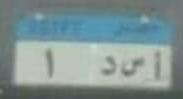1: (45, 47, 56, 81)
alif: (152, 48, 163, 83)
daal: (98, 53, 117, 80)
seen: (120, 56, 146, 82)
